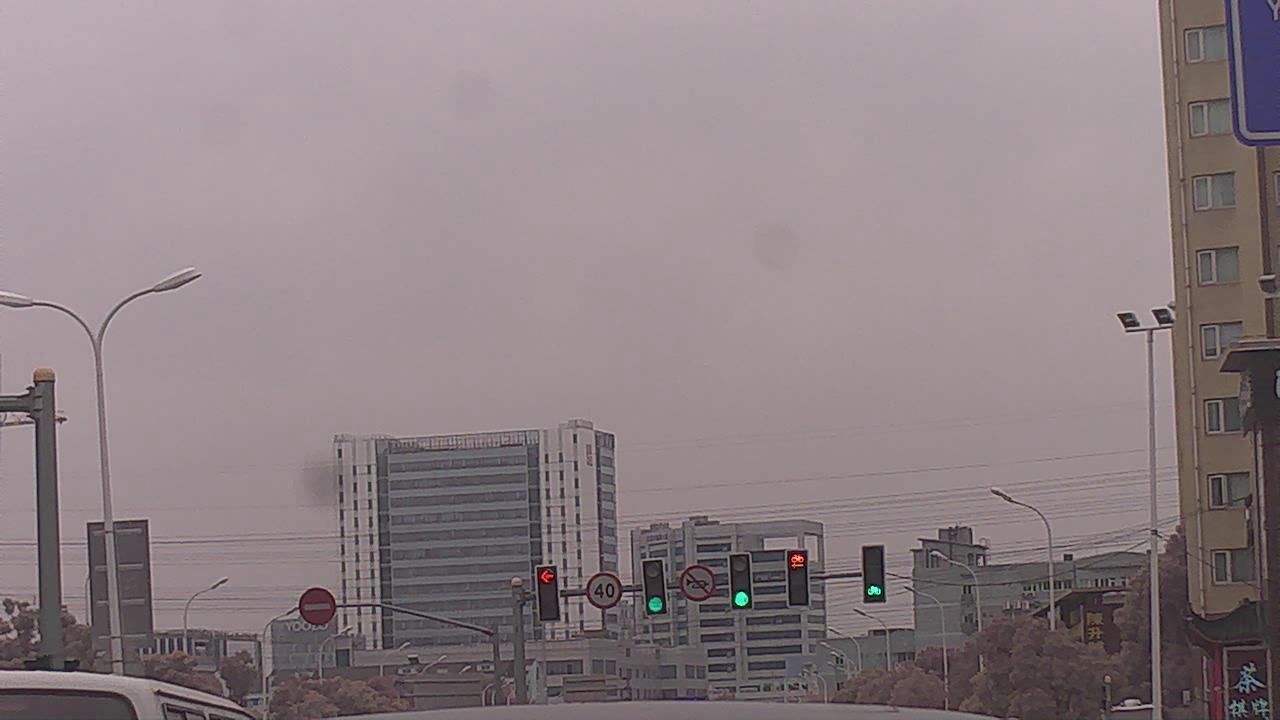traffic_light: (535, 567, 567, 626), (642, 559, 673, 617), (862, 549, 888, 607), (789, 545, 813, 606), (729, 553, 753, 611)
